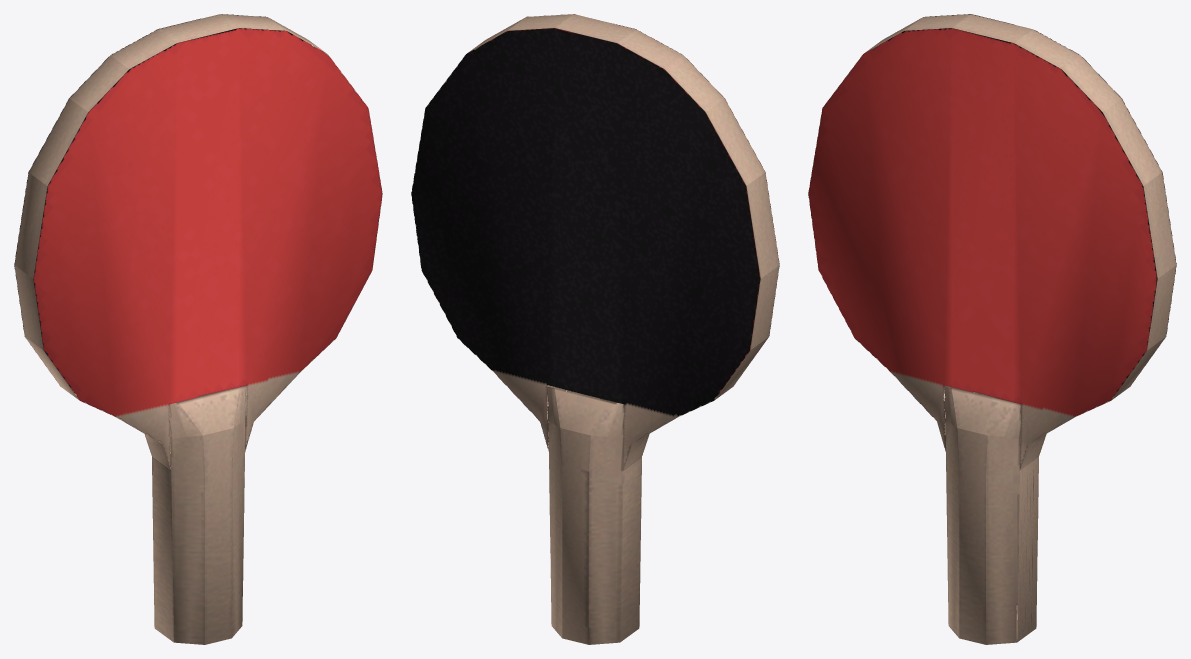
The model's file is TableTennisRacket_Red.fbx.
The picture shows the model from 3 angles, left to right: view 1: azimuth 30°, elevation 25°; view 2: azimuth 150°, elevation 25°; view 3: azimuth 330°, elevation 25°; orthographic projection.
Parts seen in each view (by area): view 1: table tennis racket; view 2: table tennis racket; view 3: table tennis racket.
Boxes of the visible parts, x1,y1,x2,y2 form: table tennis racket: (14,14,382,644); table tennis racket: (411,14,779,644); table tennis racket: (808,14,1176,644).
Bounding box in the file's own units: 49.65 × 81.31 × 9.78.
